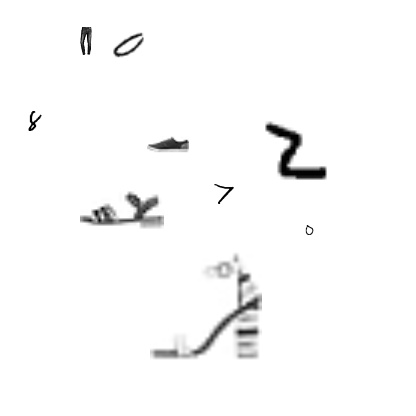0: (106, 24, 148, 66), (302, 223, 316, 237)
2: (251, 113, 335, 197)
7: (210, 178, 238, 206)
8: (19, 107, 47, 135)
Sandal: (150, 250, 262, 362), (80, 168, 164, 252)
Sneaker: (147, 122, 189, 164)
Trouser: (72, 27, 100, 55)
